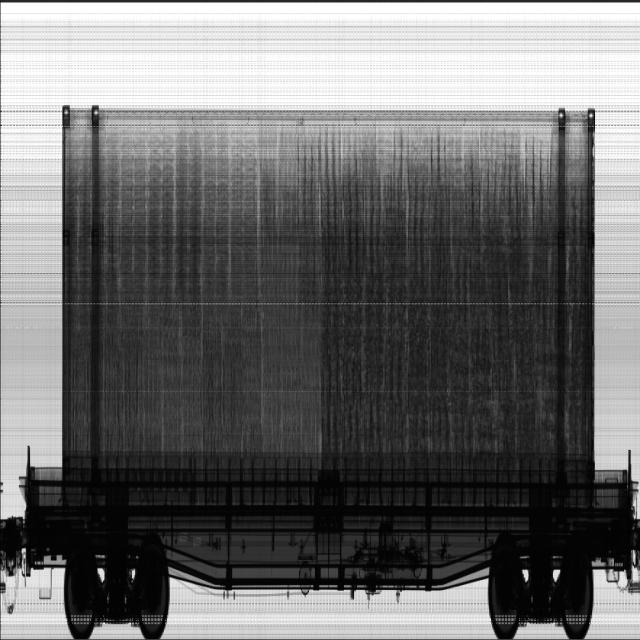shoes: (64, 123, 258, 292), (298, 128, 549, 229)
